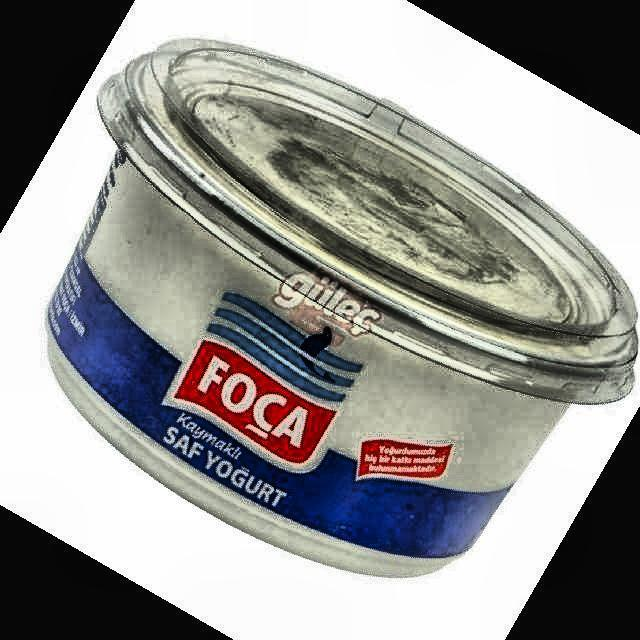plastic: (49, 40, 638, 576)
